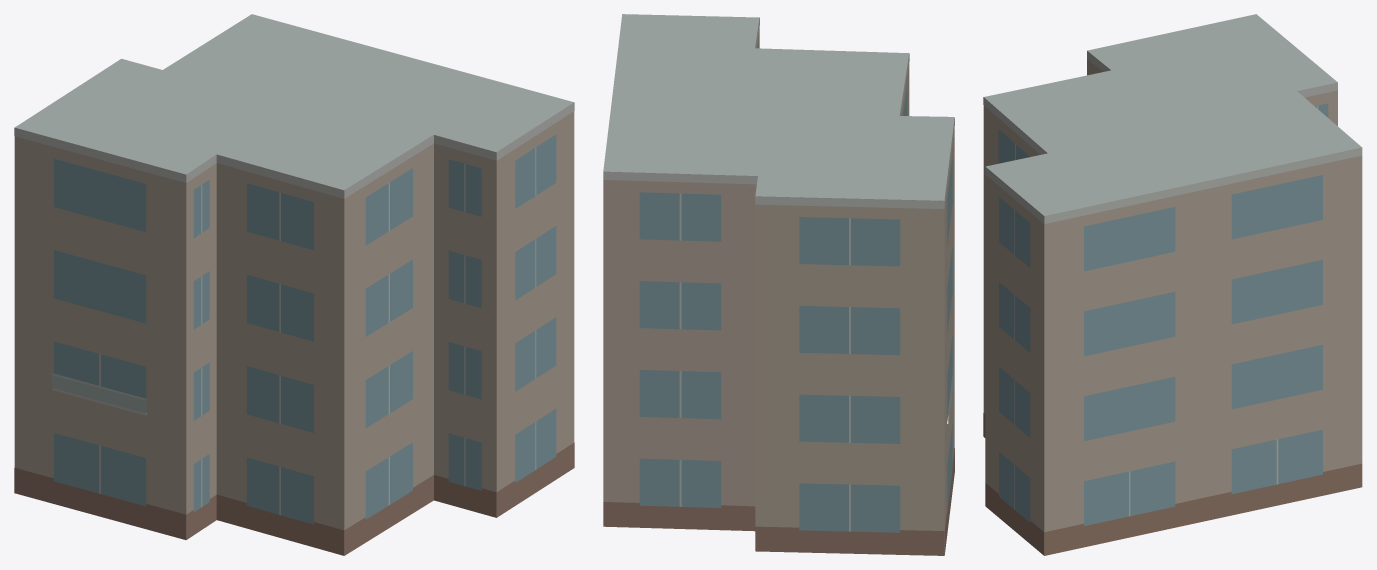
The model's file is survey-upis-33001533.glb.
3 renders of one model, left to right at view 1: azimuth 30°, elevation 25°; view 2: azimuth 150°, elevation 25°; view 3: azimuth 270°, elevation 25°, orthographic. The views are drawn at different scales.
Parts seen in each view (by area): view 1: survey-upis-33001533.tmp; view 2: survey-upis-33001533.tmp; view 3: survey-upis-33001533.tmp.
Part boxes in pixels (left/top/right/bottom): survey-upis-33001533.tmp: left=14, top=14, right=574, bottom=555; survey-upis-33001533.tmp: left=603, top=14, right=954, bottom=555; survey-upis-33001533.tmp: left=983, top=14, right=1362, bottom=555.
Bounding box in the file's own units: 13.29 × 10.4 × 10.52.
